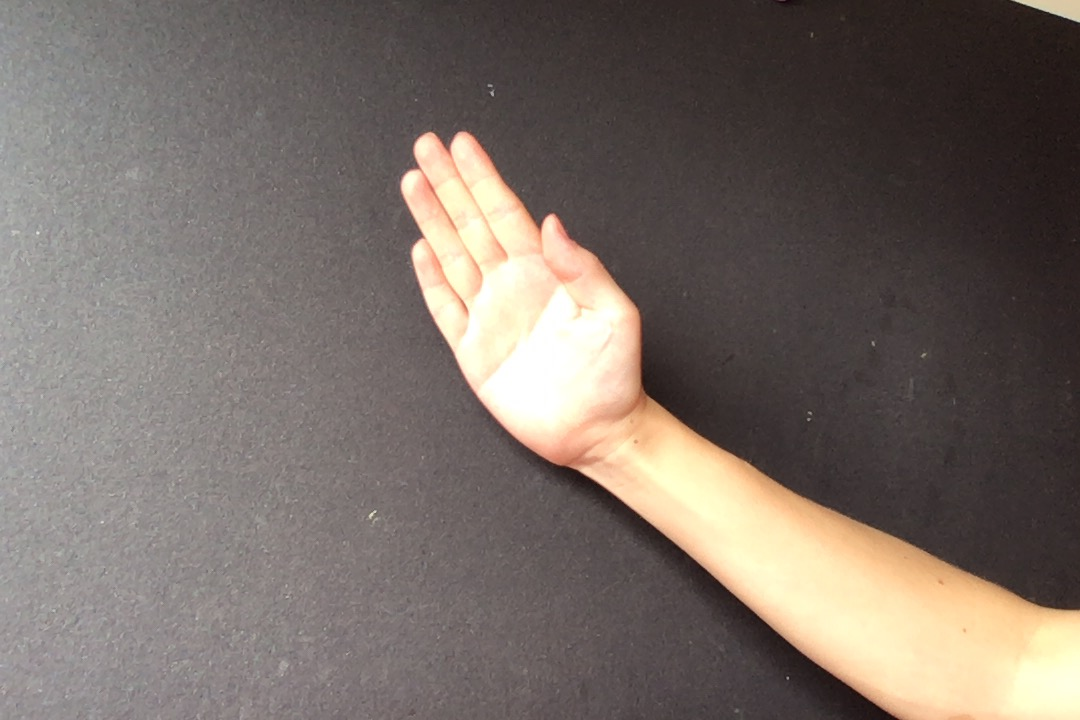palmhand: (394, 120, 653, 472)
